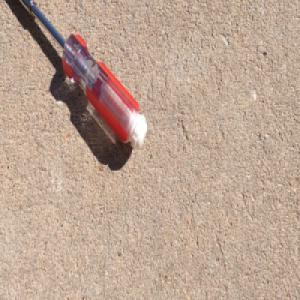Screwdriver: (15, 0, 149, 152)
